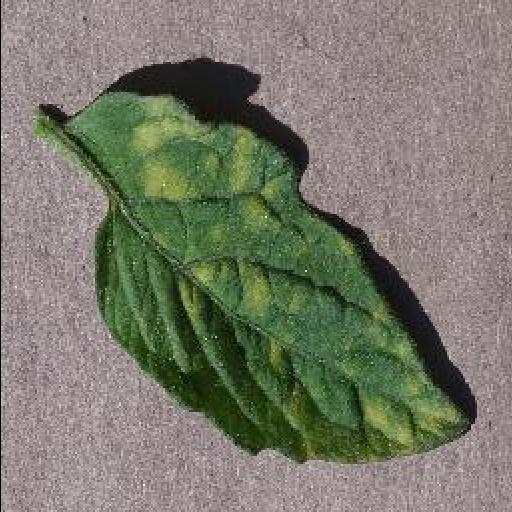disease_tomato: (61, 90, 471, 468)
